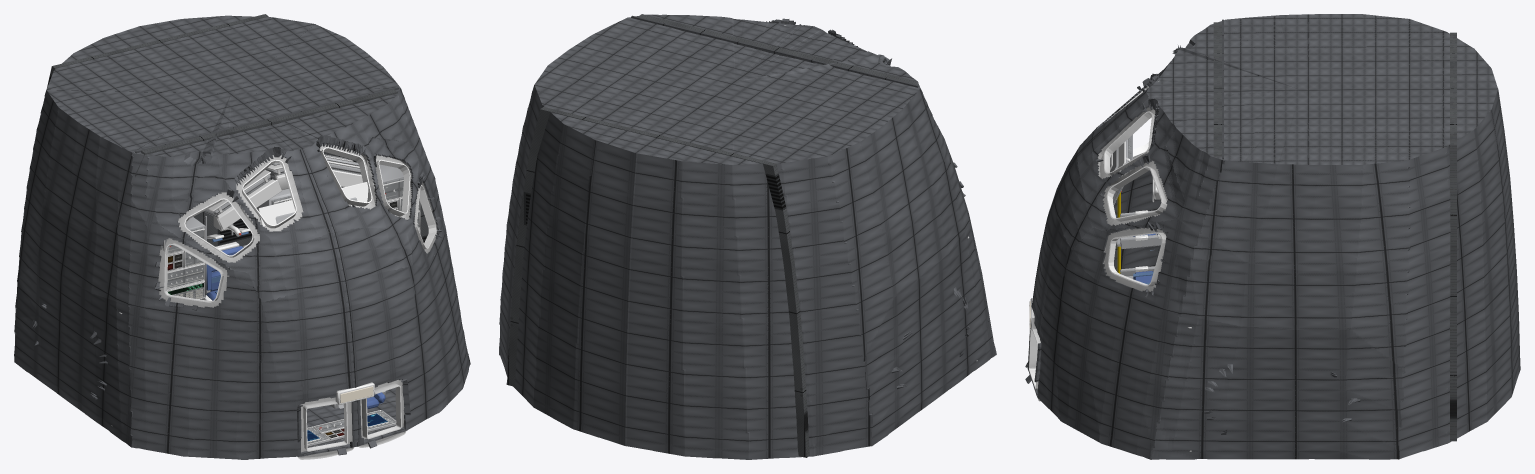
The model's file is CockpitMk3Interior.fbx.
3 views of the same model, side by side, from view 1: azimuth 30°, elevation 25°; view 2: azimuth 150°, elevation 25°; view 3: azimuth 270°, elevation 25° (orthographic). The views are drawn at different scales.
Visible parts, largest first — view 1: Mesh_WallPadded, Mesh_FrameDark.001, Mesh_DeckPlate, Mesh_ShuttlePanel, Mesh_Frame.001, Mesh_GlareshieldDetail, Mesh_Bezel, Mesh_SeatBlue; view 2: Mesh_WallPadded, Mesh_DeckPlate; view 3: Mesh_WallPadded, Mesh_FrameDark.001, Mesh_DeckPlate, Mesh_Frame.001.
Part boxes in pixels (<box>): Mesh_WallPadded: <box>14,15,470,459</box>; Mesh_FrameDark.001: <box>111,143,437,459</box>; Mesh_DeckPlate: <box>47,14,428,294</box>; Mesh_ShuttlePanel: <box>161,168,420,447</box>; Mesh_Frame.001: <box>160,154,420,408</box>; Mesh_GlareshieldDetail: <box>216,169,362,229</box>; Mesh_Bezel: <box>163,180,420,445</box>; Mesh_SeatBlue: <box>206,246,385,409</box>; Mesh_WallPadded: <box>499,14,996,459</box>; Mesh_DeckPlate: <box>506,14,927,457</box>; Mesh_WallPadded: <box>1025,14,1520,459</box>; Mesh_FrameDark.001: <box>1028,81,1191,451</box>; Mesh_DeckPlate: <box>1213,22,1456,441</box>; Mesh_Frame.001: <box>1110,139,1161,278</box>.
Bounding box in the file's own units: 3.26 × 2.36 × 3.67.
